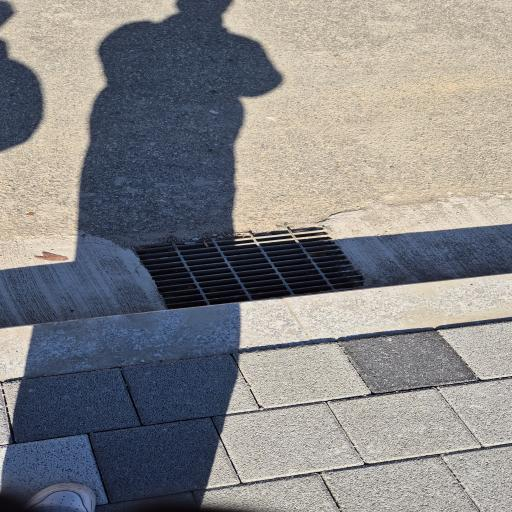drain: (135, 227, 364, 309)
